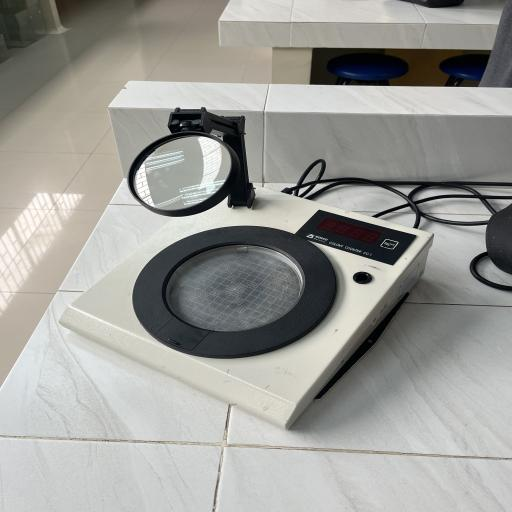Contador_Colonias_CC1: (69, 97, 459, 410)
